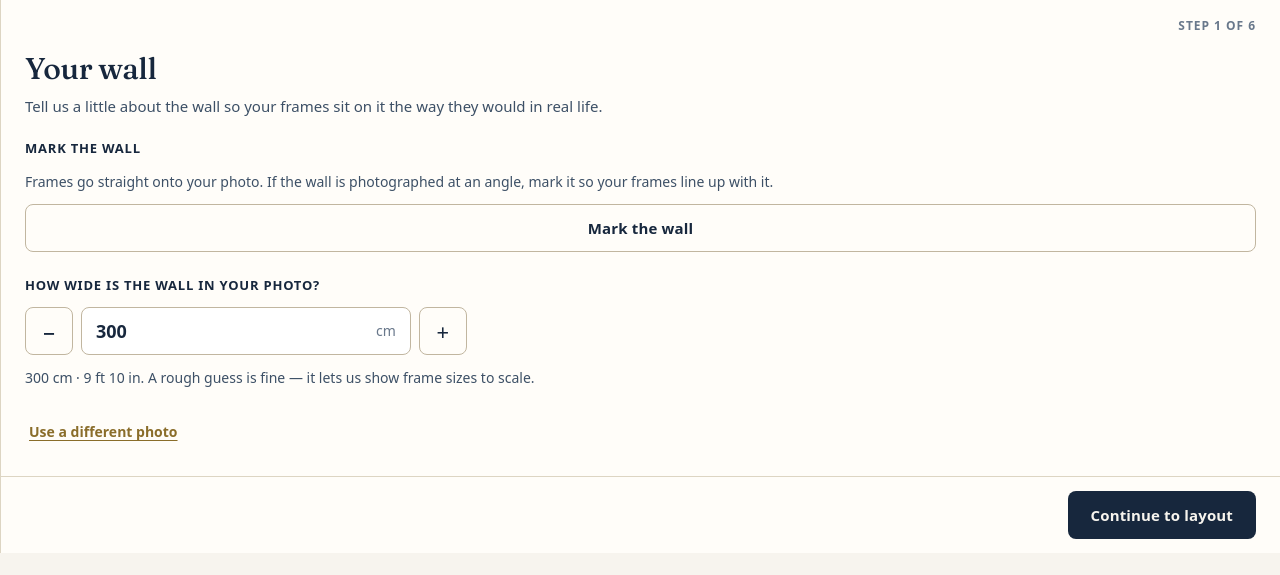
Step 1 — your wall › rejects "abc" with an explanation and blocks continuing
The width and height of the screenshot is (1280, 575).
Replace the text in the field with test id "wall-width" with "abc". click: (232, 331)
box: [96,317,368,345]
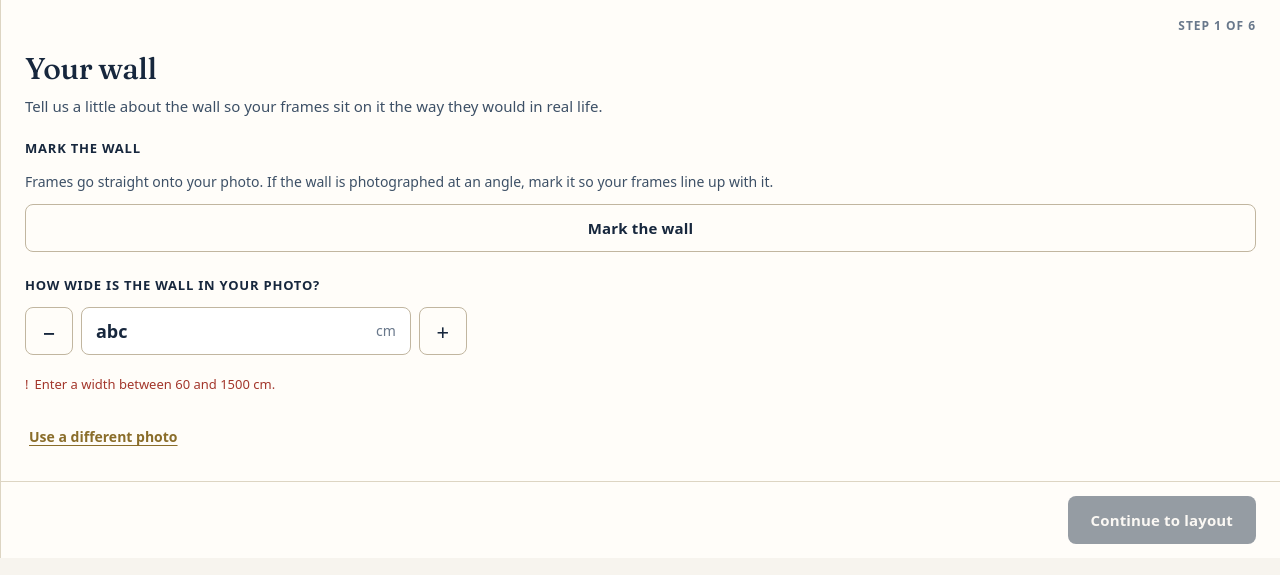
Expected: the message shows "between 60 and 1500 cm", [25,375,275,393]
Expected: the button with test id "primary-action" is disabled, [1068,496,1256,544]
